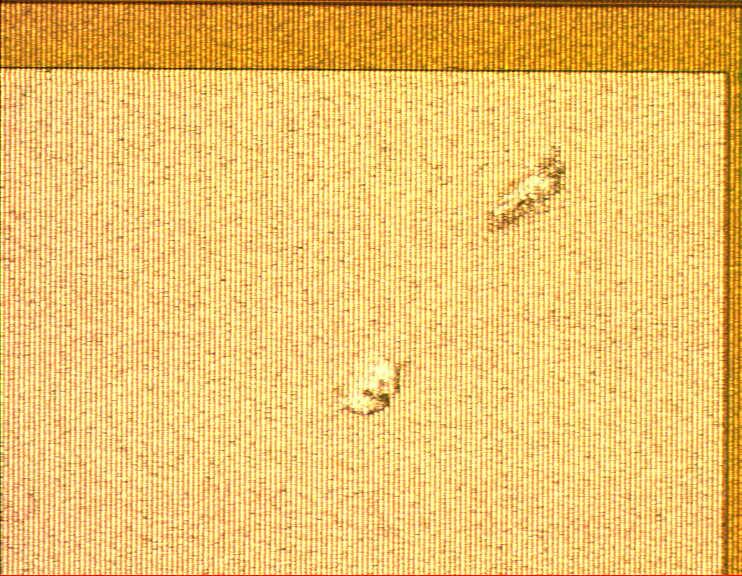SCRATCH: (312, 142, 585, 437)
